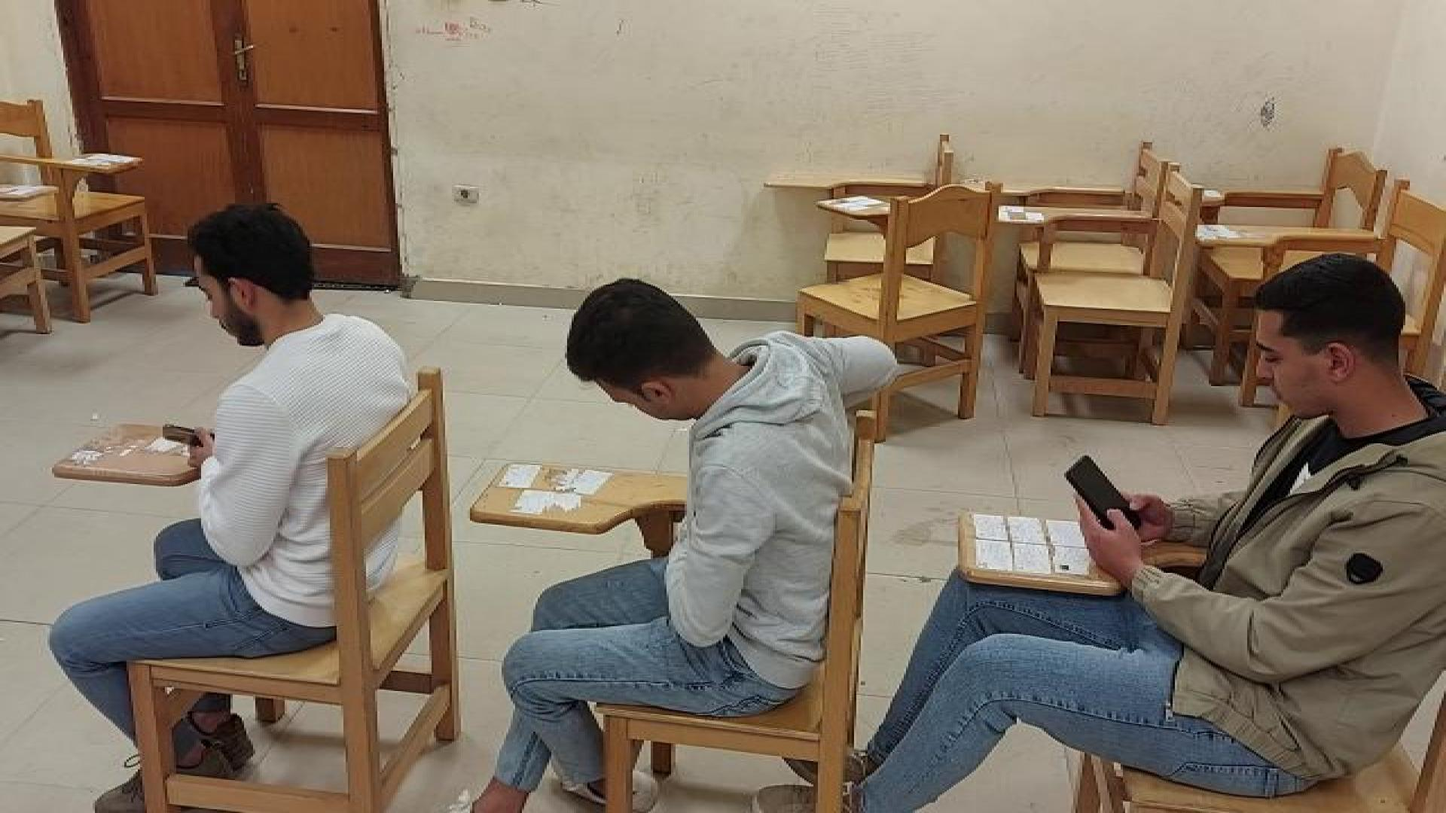phone: (1063, 454, 1142, 534), (160, 420, 230, 456)
